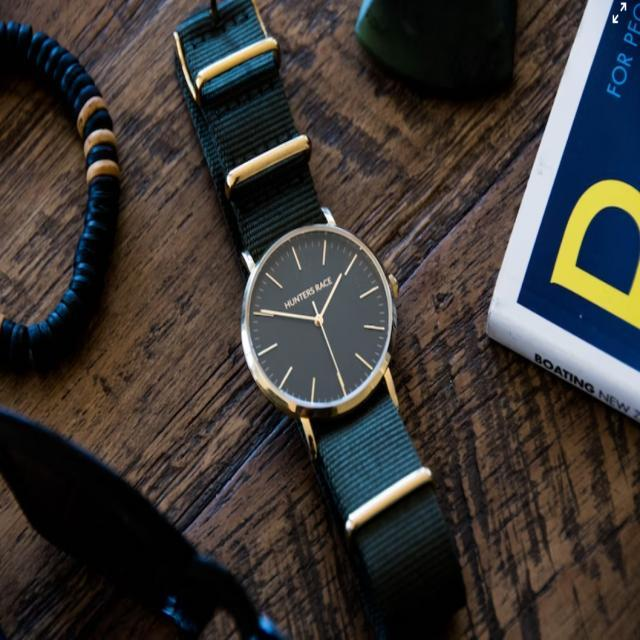Watch: (176, 0, 470, 631)
